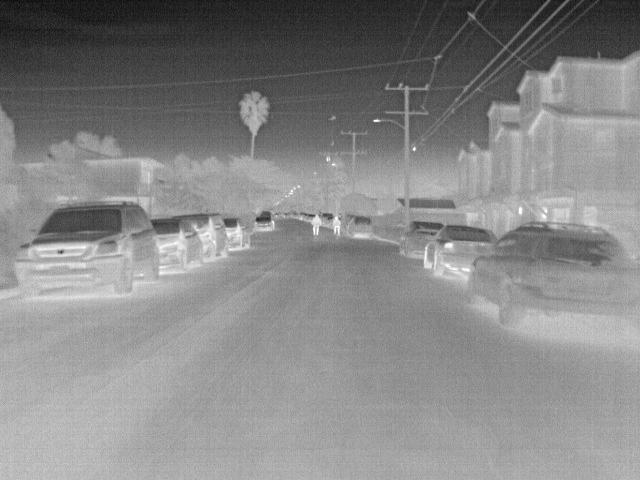car: (468, 220, 638, 333), (8, 200, 158, 297), (421, 224, 493, 278), (149, 216, 203, 274), (173, 211, 227, 260), (399, 221, 447, 256), (226, 218, 245, 252), (347, 215, 373, 239), (252, 212, 275, 230), (338, 213, 354, 235)
person: (310, 213, 323, 238), (330, 214, 344, 236)
